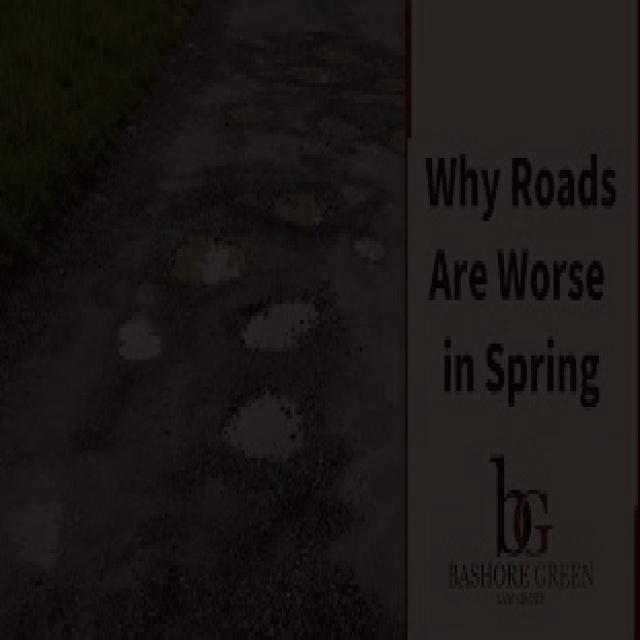Pothole: (210, 379, 320, 486), (218, 283, 331, 362), (166, 230, 249, 288), (101, 302, 174, 363), (269, 182, 334, 240), (306, 28, 370, 70), (357, 78, 417, 117), (294, 56, 348, 98), (320, 110, 370, 148), (338, 174, 383, 211), (224, 100, 274, 132), (352, 232, 390, 266), (378, 128, 409, 153)
